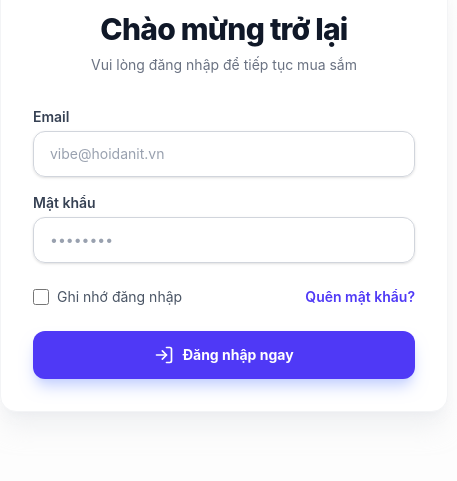
LoginForm › should show validation errors on invalid input
The width and height of the screenshot is (457, 481).
Note: Trigger validation
Click the button "Đăng nhập ngay" at [224, 355], box [33, 331, 415, 379]
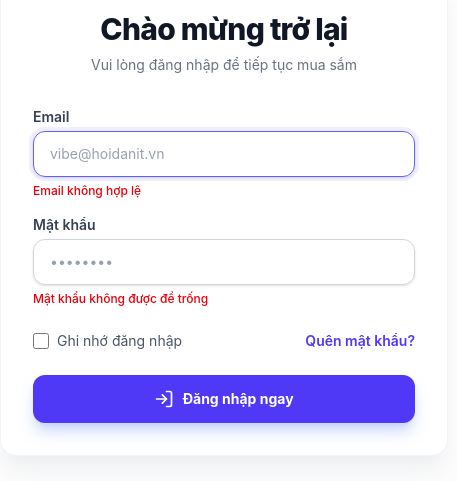
Check: the text "Email không hợp lệ" is shown, box [33, 183, 141, 198]
Check: the text "Mật khẩu không được để trống" is shown, box [33, 291, 208, 306]
